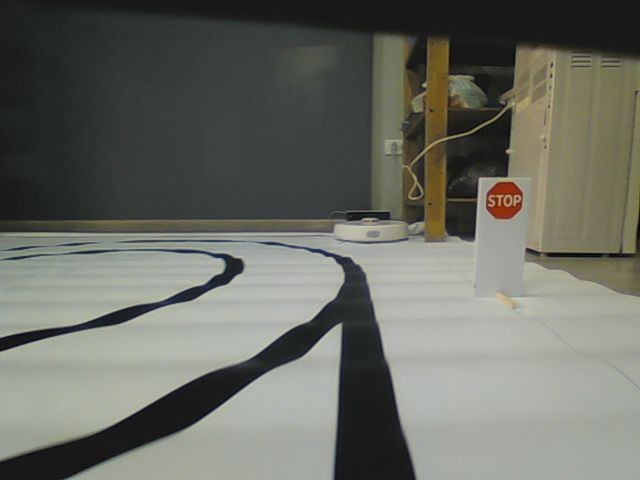Stop: (486, 182, 524, 221)
